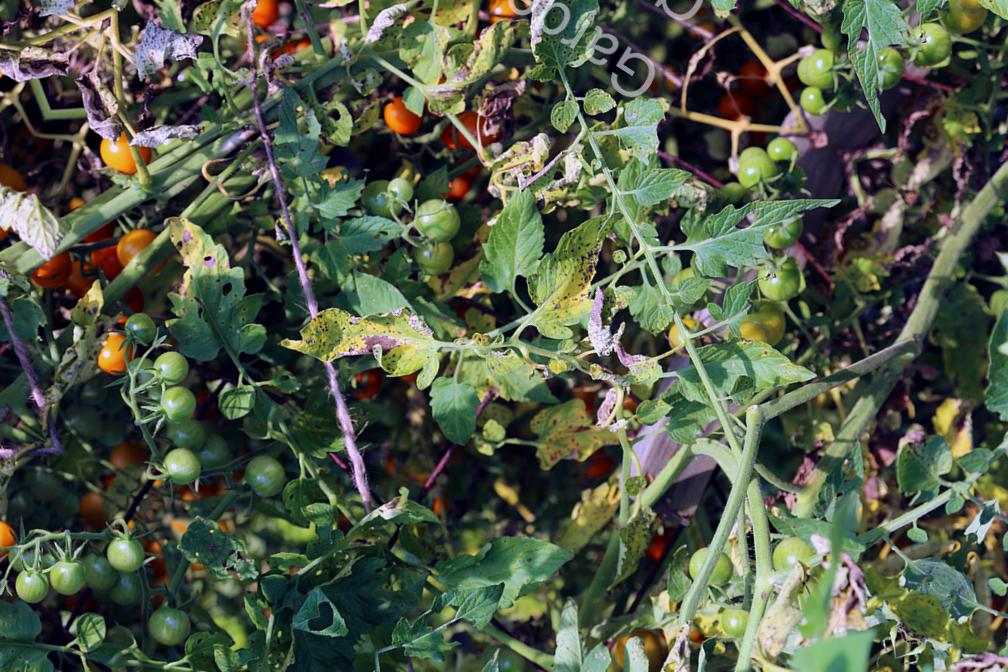Tomato Early blight leaf: (275, 255, 464, 427), (121, 215, 298, 383), (435, 498, 572, 635), (506, 201, 634, 347), (679, 304, 813, 420), (517, 387, 620, 487), (468, 340, 565, 423)
Tomato leaf: (459, 179, 573, 304)
